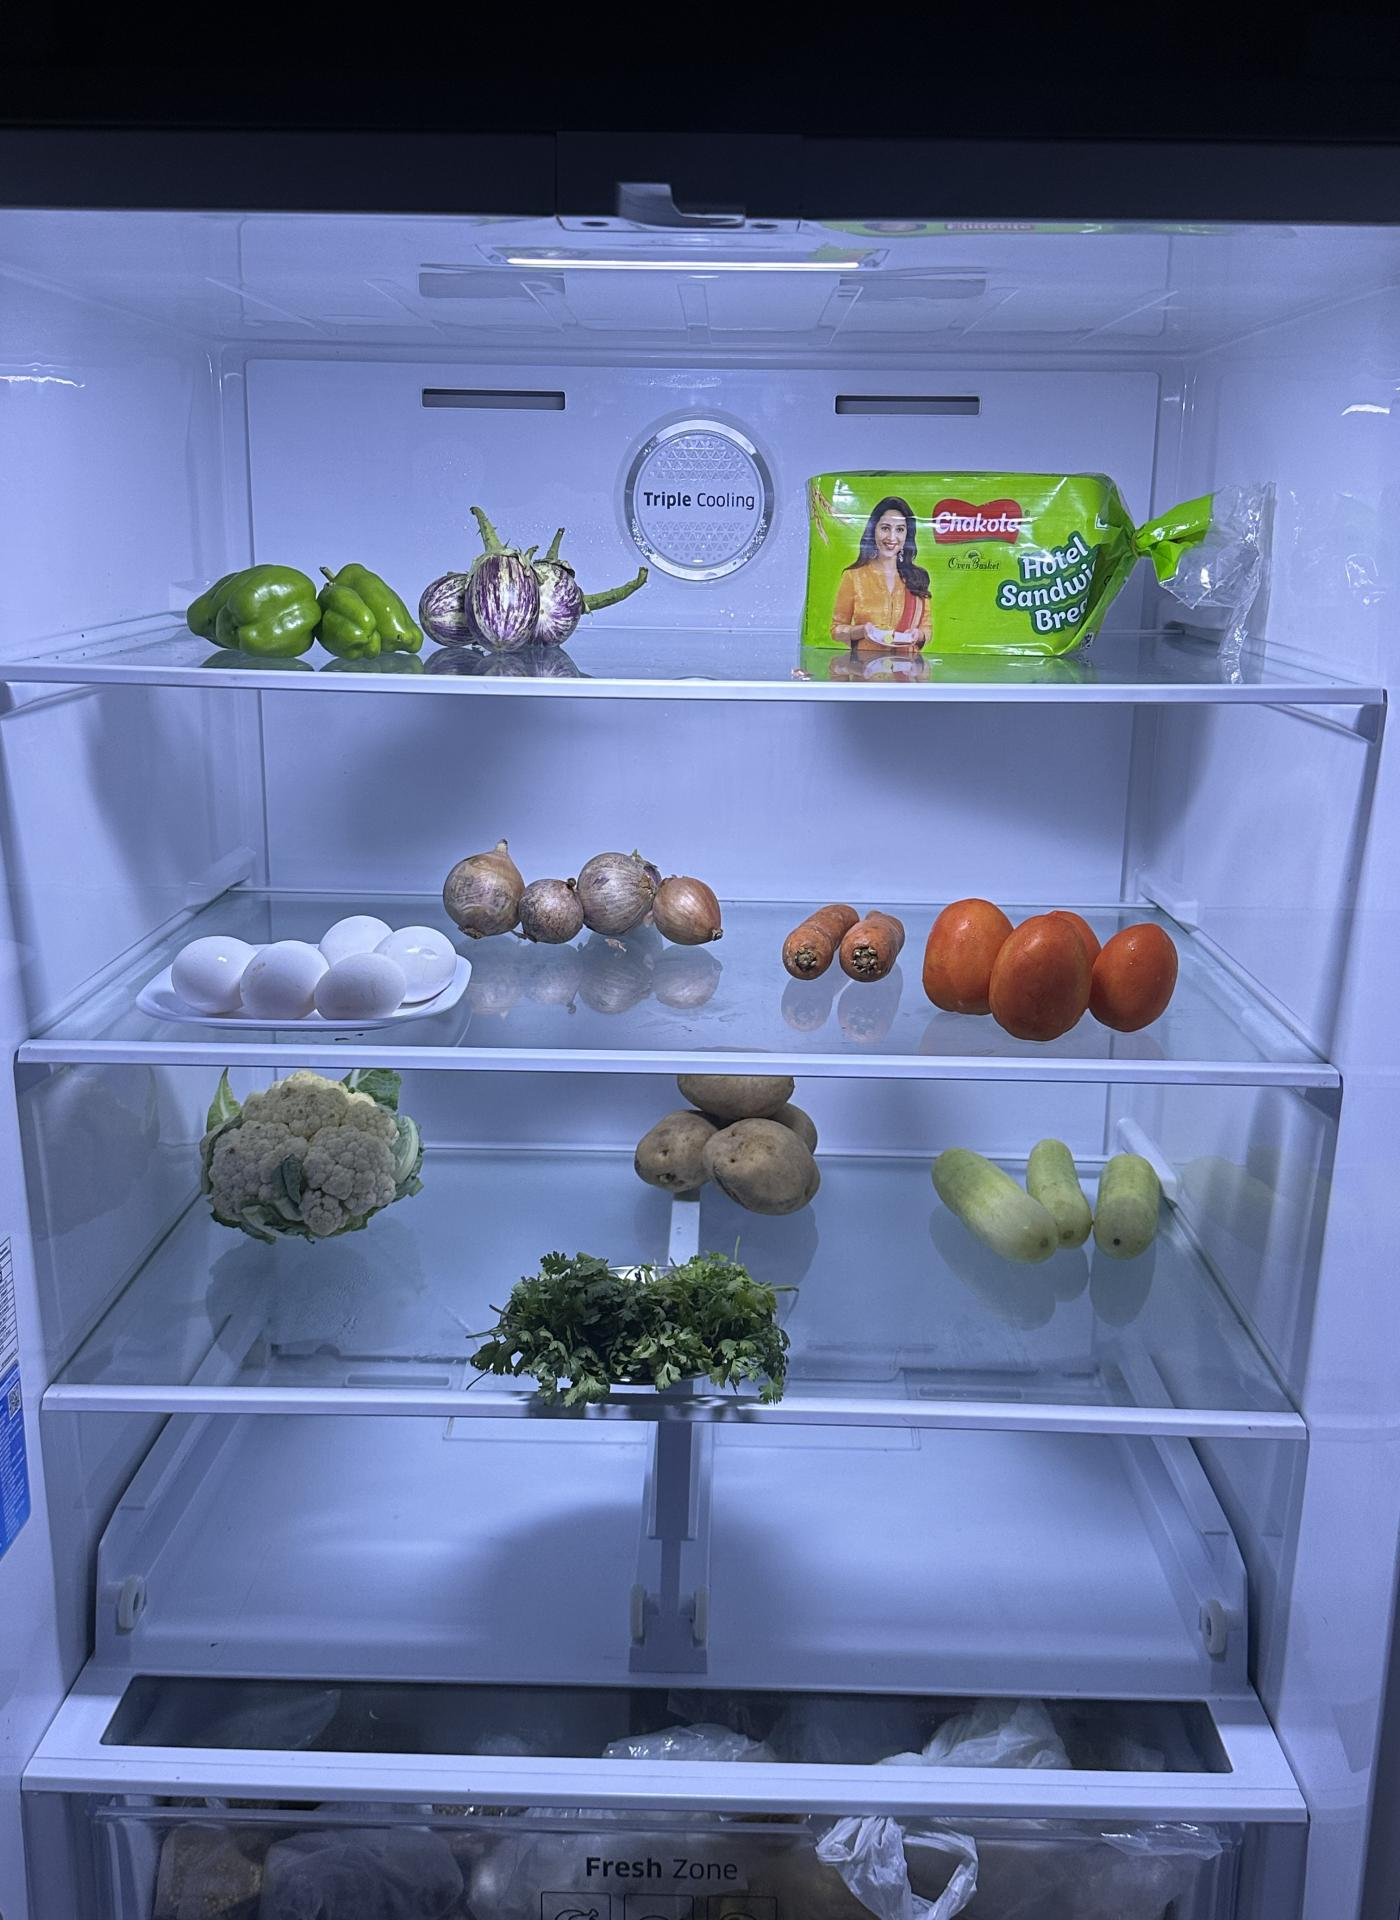bread: (804, 467, 1157, 675)
brinjal: (413, 540, 614, 657)
capsicum: (179, 549, 423, 663)
carrots: (781, 897, 906, 979)
cauliflower: (200, 1072, 420, 1234)
coriander: (470, 1248, 799, 1404)
cucumber: (926, 1133, 1166, 1275)
egg: (168, 914, 456, 1021)
onion: (446, 842, 726, 951)
potato: (631, 1060, 832, 1207)
tomato: (923, 896, 1187, 1046)
